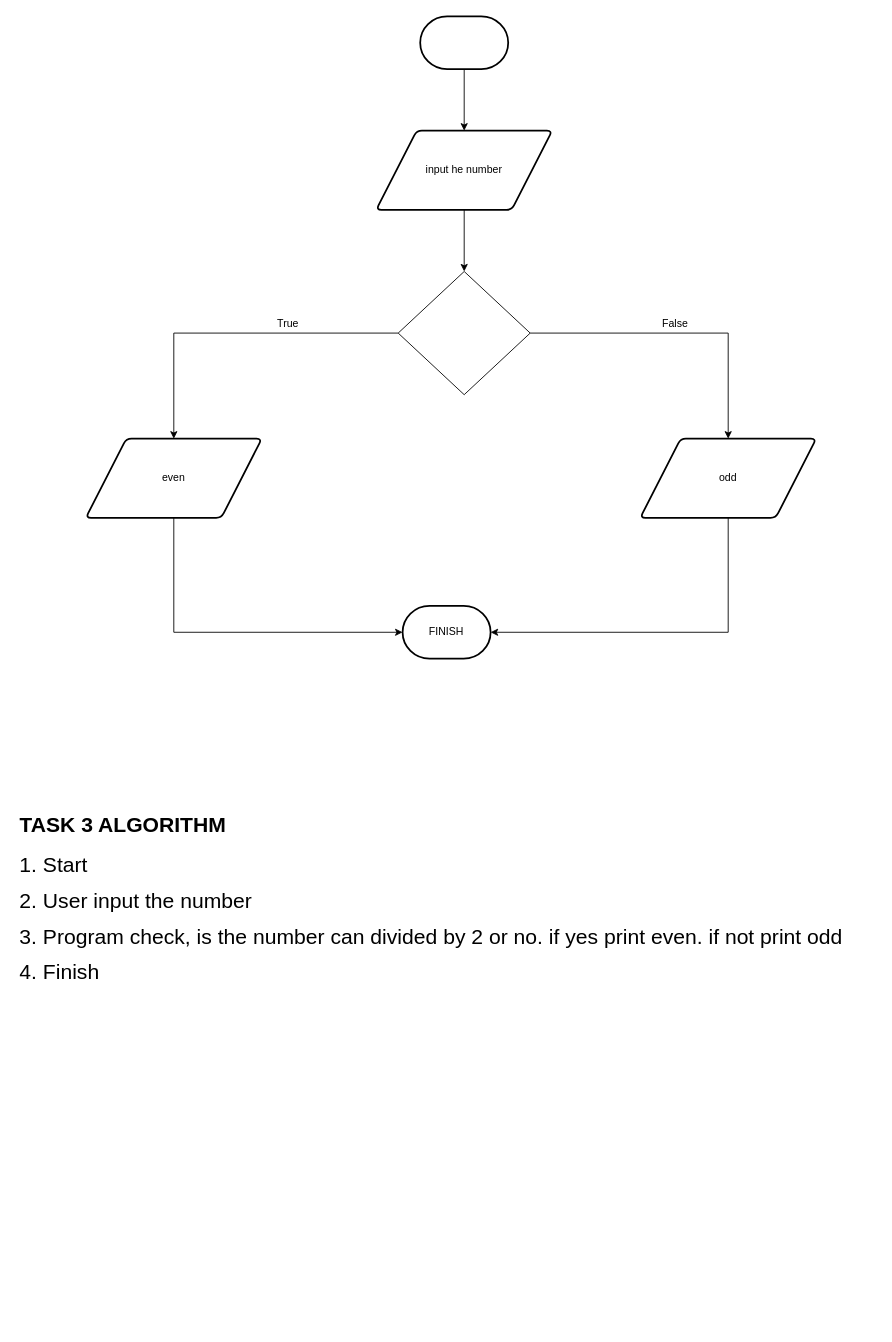
This 892x1342 diagram has some shape labels left out. The shapes that lost their labels are listed below. From the top down, each one's centre as x and y in pixels, then its label:
(x=464, y=42): START
(x=463, y=333): if number %2==0
